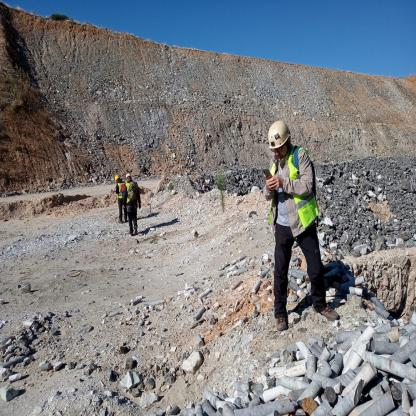person: (252, 100, 342, 333), (123, 170, 141, 235), (111, 168, 127, 224)
